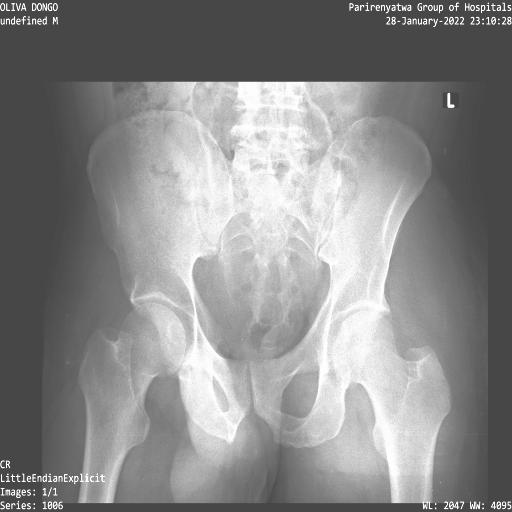normal: (333, 311, 452, 503), (78, 304, 186, 503)
